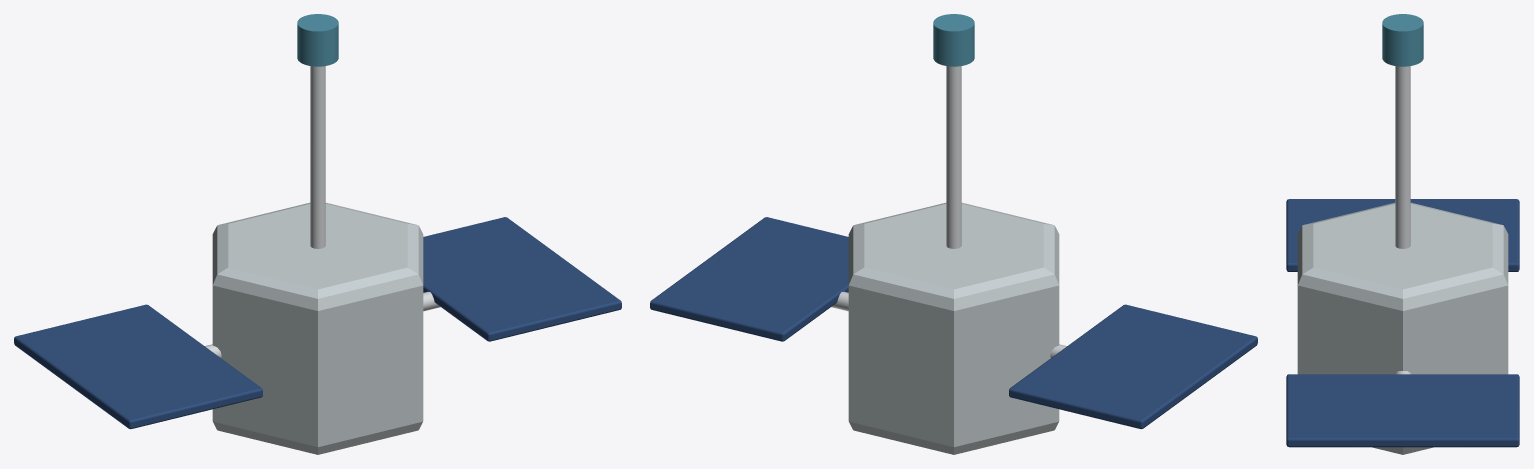
3 renders of one model, left to right at view 1: azimuth 30°, elevation 25°; view 2: azimuth 150°, elevation 25°; view 3: azimuth 270°, elevation 25°, orthographic.
Visible parts, largest first — view 1: survey-probe; view 2: survey-probe; view 3: survey-probe.
Boxes of the visible parts, x1,y1,x2,y2 form: survey-probe: (14,14,621,454); survey-probe: (650,14,1257,454); survey-probe: (1286,14,1519,454).
Bounding box in the file's own units: 2.2 × 1.65 × 0.9.
